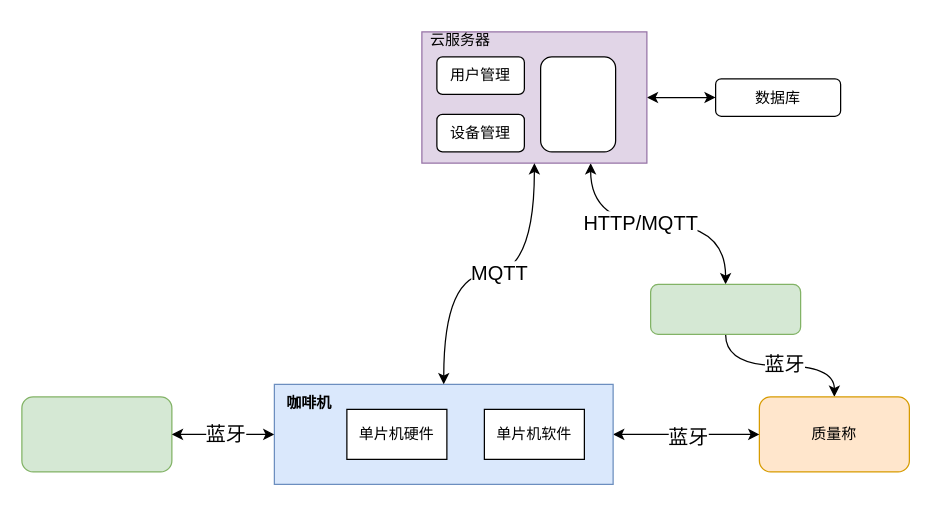
Image size: 931x506. Some labels were removed from this diagram. Each missing label, with the centre of its shape:
"MQTT Broker" goes at (577,104).
"安卓APP" goes at (96,434).
"微信小程序" goes at (725,308).
